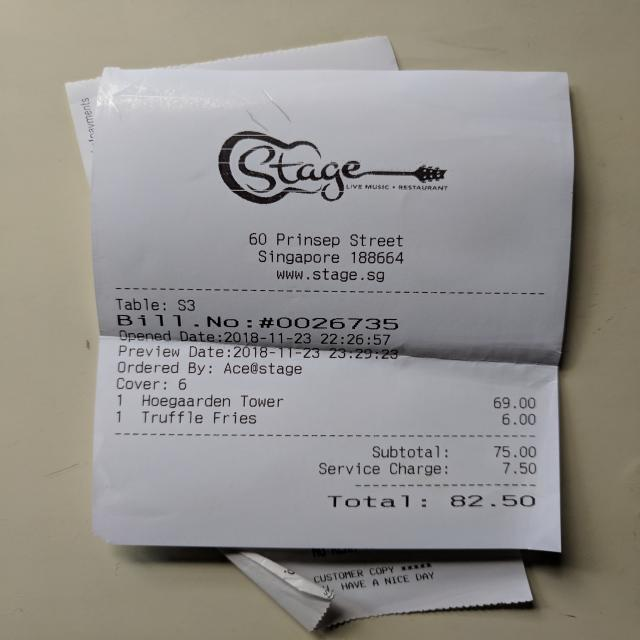bill_region: (108, 388, 551, 520)
